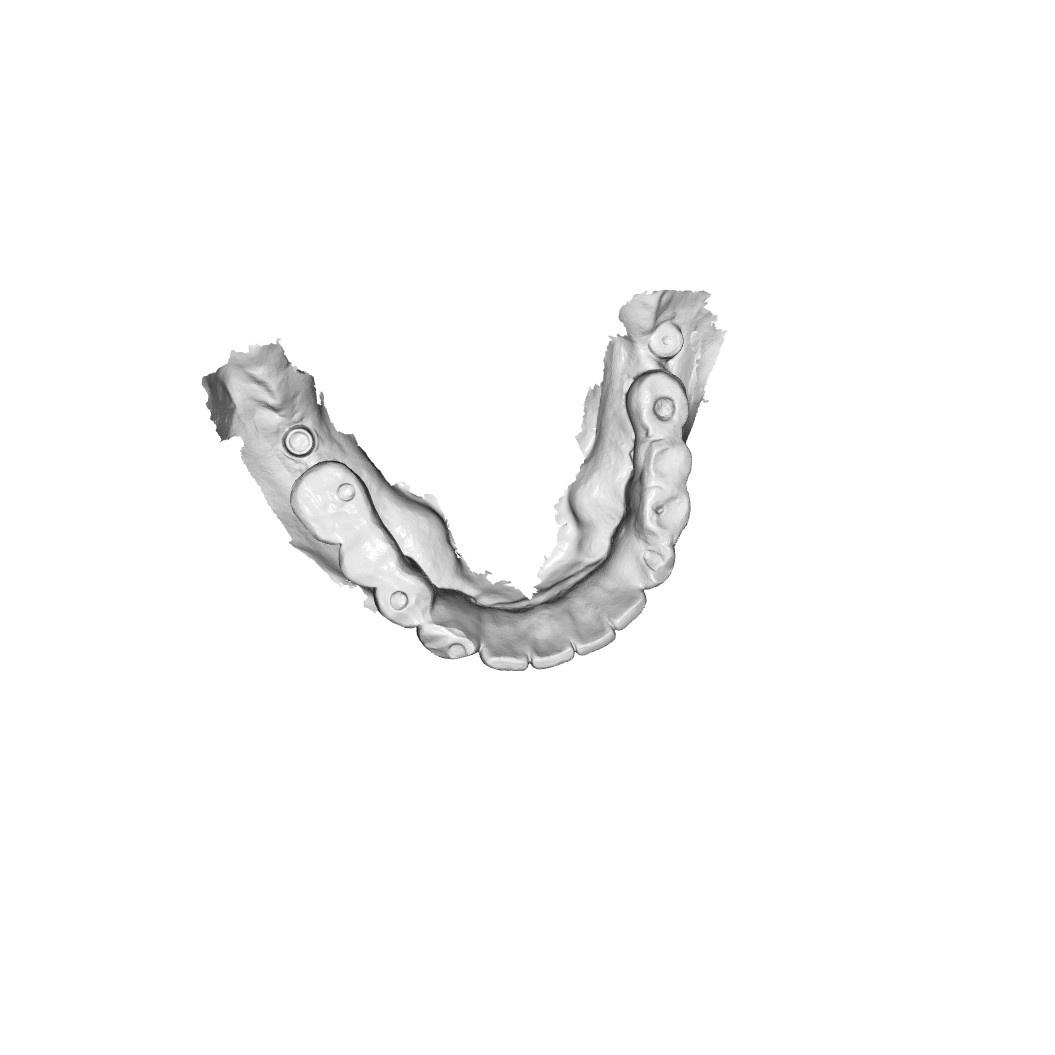canine: (416, 605, 481, 663), (621, 532, 675, 583)
implant: (284, 422, 314, 456)
incisor: (477, 611, 532, 678), (594, 576, 644, 627), (569, 603, 615, 656), (525, 618, 574, 667)
molar: (290, 460, 370, 546), (633, 373, 690, 439)
premolar: (638, 487, 695, 548), (340, 529, 399, 586), (378, 567, 430, 628), (637, 439, 690, 493)
